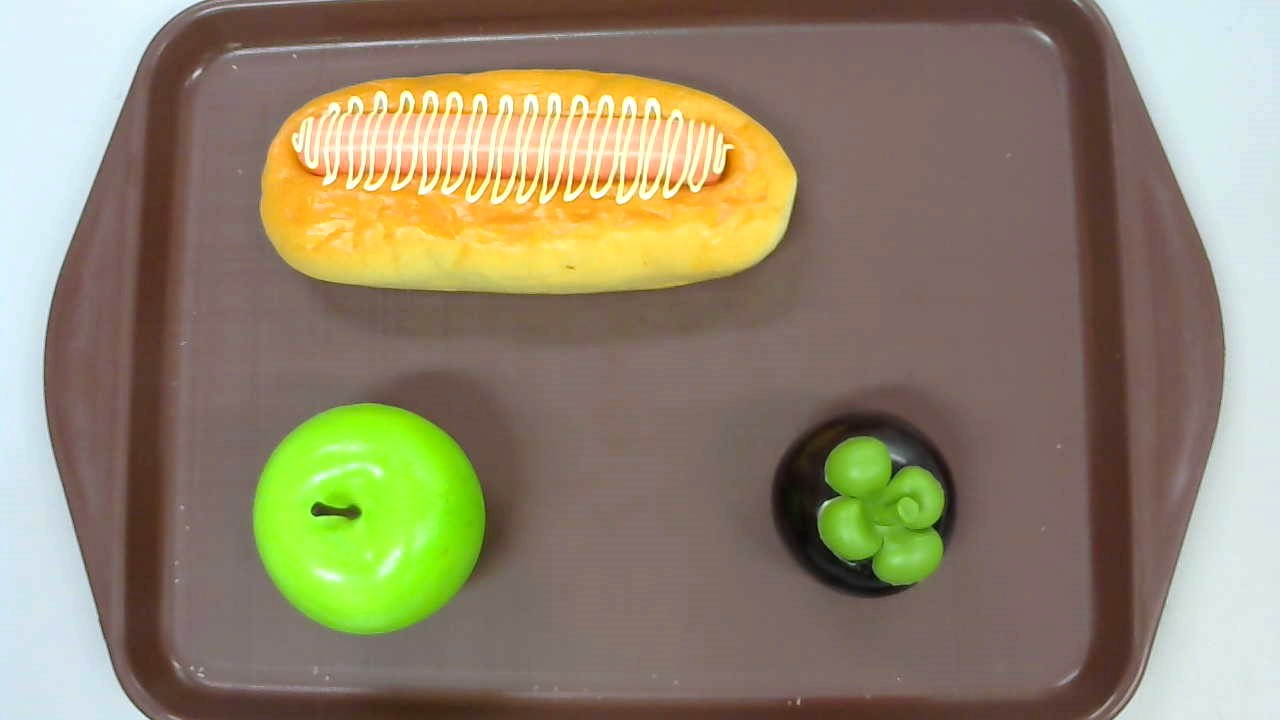green apple: (252, 402, 485, 634)
hot dog: (260, 69, 798, 295)
mangosteen: (772, 412, 958, 598)
